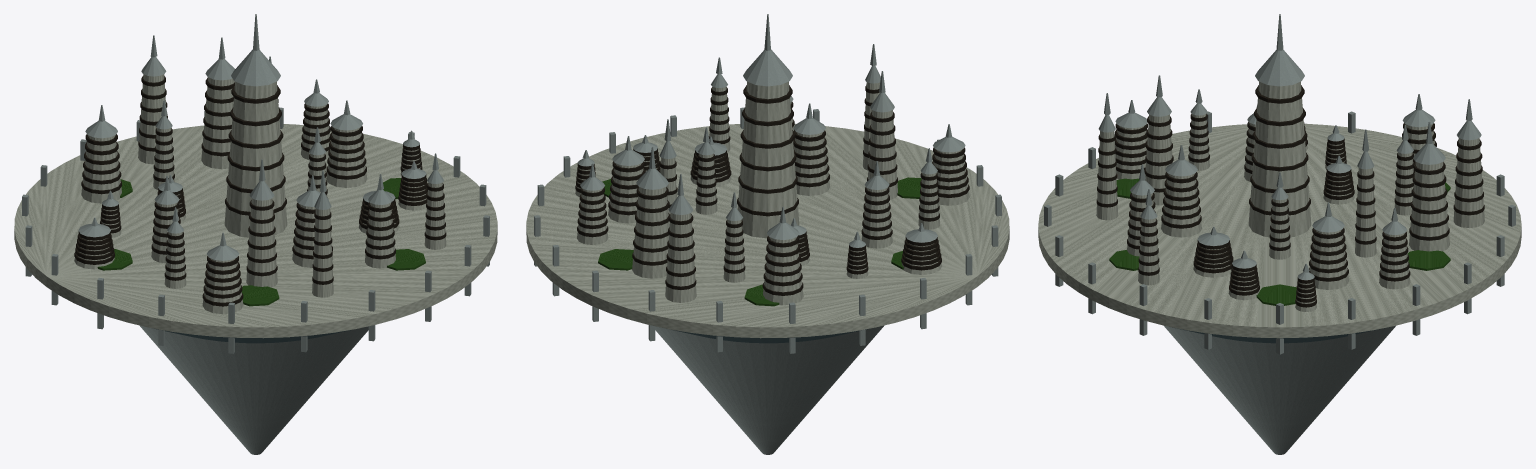
File: floating_city_01.fbx
The picture shows the model from 3 angles, left to right: view 1: azimuth 30°, elevation 25°; view 2: azimuth 150°, elevation 25°; view 3: azimuth 270°, elevation 25°; orthographic projection.
Visible parts, largest first — view 1: floating_city_01_LOD0; view 2: floating_city_01_LOD0; view 3: floating_city_01_LOD0.
Part boxes in pixels (x1,y1,x2,y2): floating_city_01_LOD0: (14, 14, 497, 454); floating_city_01_LOD0: (526, 14, 1009, 454); floating_city_01_LOD0: (1038, 14, 1521, 454).
Size of what is drawn, in the model's own units: 1 by 1 by 1.
